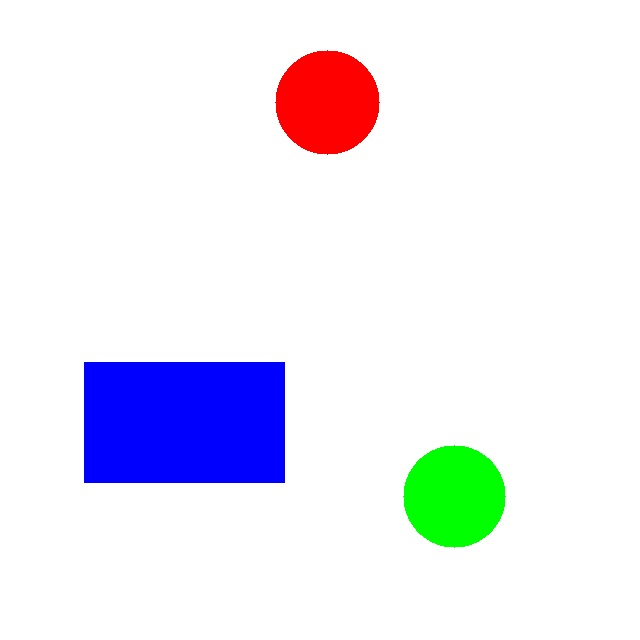cartao: (84, 362, 284, 482)
rosca_externa: (403, 445, 505, 547)
rosca_interna: (275, 50, 379, 154)
